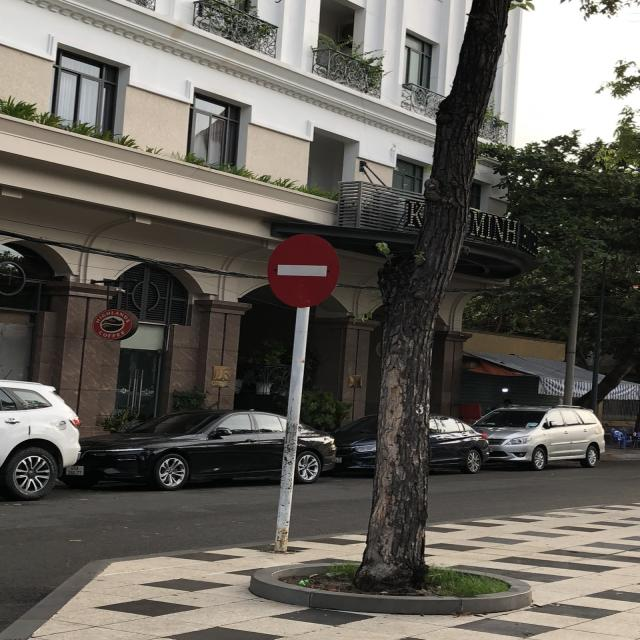Bien bao cam di nguoc chieu: (258, 226, 346, 312)
